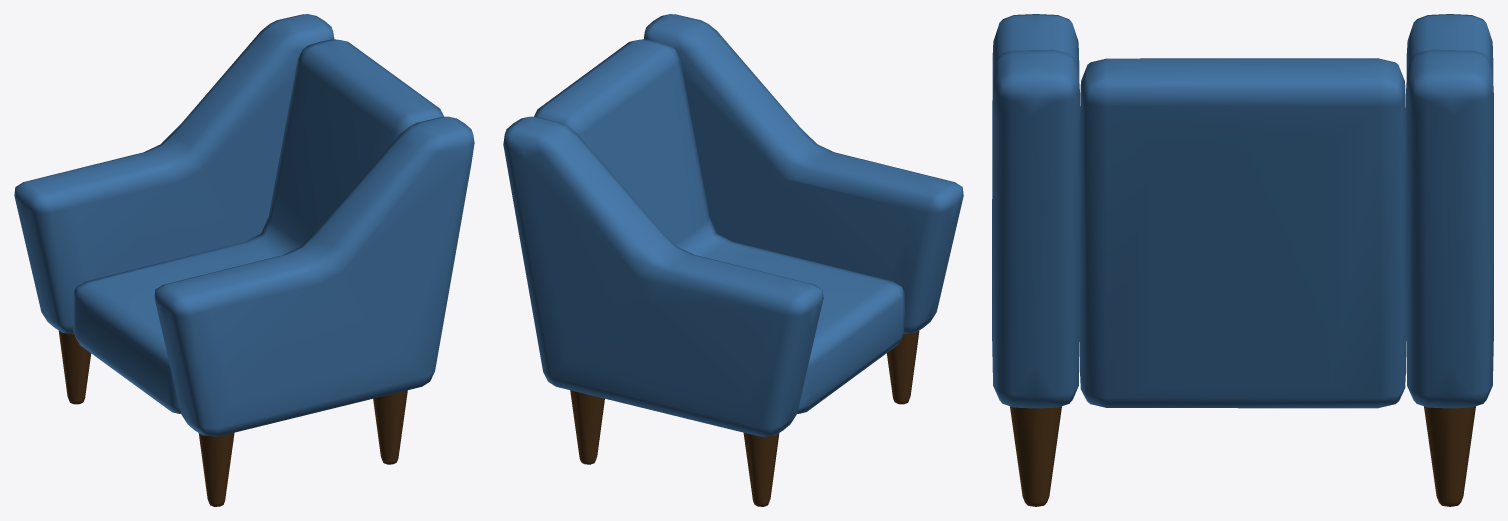
File: armchair_01_blue.fbx
3 renders of one model, left to right at view 1: azimuth 30°, elevation 25°; view 2: azimuth 150°, elevation 25°; view 3: azimuth 270°, elevation 25°, orthographic. The views are drawn at different scales.
Parts seen in each view (by area): view 1: armchair_01_blue; view 2: armchair_01_blue; view 3: armchair_01_blue.
Boxes of the visible parts, x1,y1,x2,y2 form: armchair_01_blue: (14,14,474,506); armchair_01_blue: (503,14,963,506); armchair_01_blue: (992,14,1493,506).
Size of the model in its own units: 101 by 104 by 98.01.
Materials: 2 (2 with a texture image).
